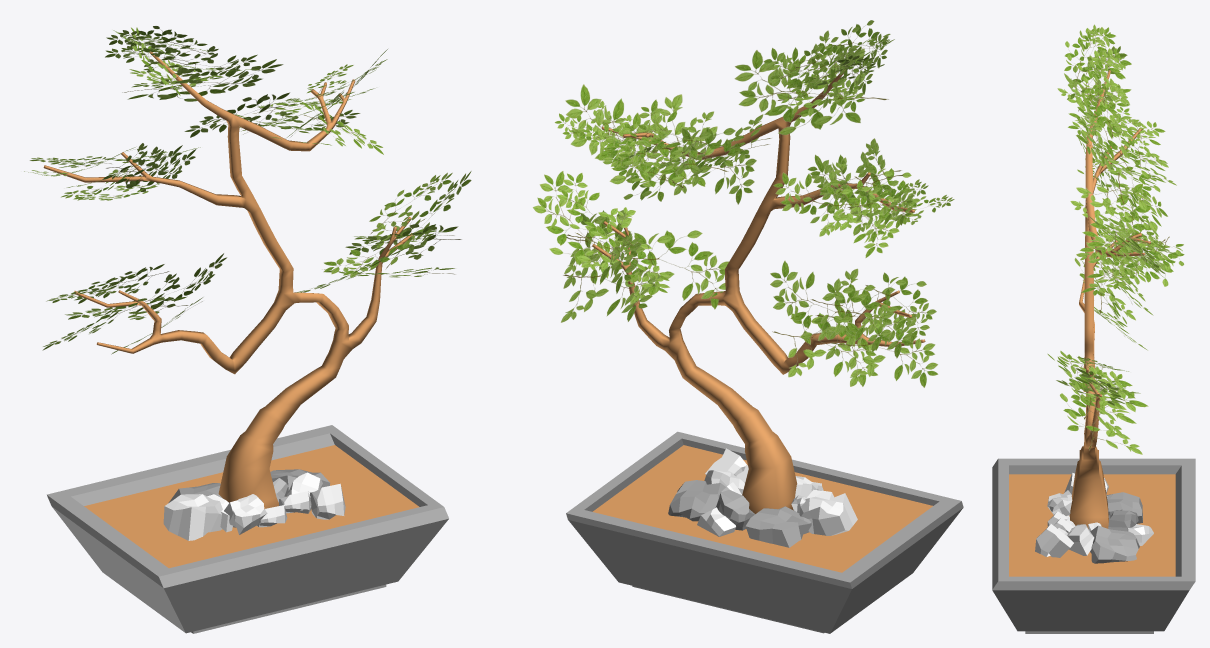
The model's file is bonsai-tree.glb.
3 views of the same model, side by side, from view 1: azimuth 30°, elevation 25°; view 2: azimuth 150°, elevation 25°; view 3: azimuth 270°, elevation 25° (orthographic). The views are drawn at different scales.
Parts seen in each view (by area): view 1: Cube_0, Plane_2, Cube.012_56, object 59, object 7, Cube.007_51, Cube.009_53, object 43, object 6, object 15, object 3, object 10 (+4 smaller); view 2: Cube_0, Plane_2, object 59, object 58, object 34, object 10, object 15, Cube.012_56, object 60, Cube.001_45, object 3, object 57 (+32 smaller); view 3: Cube_0, Plane_2, Cube.005_49, object 57, object 19, object 41, object 59, object 43, Cube.009_53, object 31, object 44, object 42 (+27 smaller).
Boxes of the visible parts, x1,y1,x2,y2 form: Cube_0: (47, 425, 448, 633); Plane_2: (43, 51, 413, 508); Cube.012_56: (163, 494, 222, 540); object 59: (122, 59, 283, 101); object 7: (323, 218, 425, 277); Cube.007_51: (224, 494, 267, 534); Cube.009_53: (310, 483, 345, 519); object 43: (345, 224, 461, 259); object 6: (369, 172, 452, 234); object 15: (184, 92, 296, 137); object 3: (385, 171, 471, 269); object 10: (132, 253, 227, 314); Cube_0: (566, 431, 963, 633); Plane_2: (592, 69, 925, 513); object 59: (734, 48, 888, 134); object 58: (565, 84, 709, 184); object 34: (613, 230, 728, 309); object 10: (770, 260, 873, 339); object 15: (664, 127, 756, 204); Cube.012_56: (799, 489, 857, 535); object 60: (830, 317, 938, 387); Cube.001_45: (745, 506, 811, 547); object 3: (532, 171, 631, 278); object 57: (561, 246, 659, 322); Cube_0: (992, 458, 1195, 633); Plane_2: (1069, 70, 1150, 528); Cube.005_49: (1090, 525, 1139, 563); object 57: (1059, 386, 1148, 454); object 19: (1076, 171, 1157, 255); object 41: (1076, 231, 1146, 295); object 59: (1064, 73, 1127, 169); object 43: (1070, 365, 1135, 436); Cube.009_53: (1035, 524, 1073, 557); object 31: (1057, 83, 1115, 136); object 44: (1066, 366, 1132, 421); object 42: (1107, 221, 1177, 286).
Bounding box in the file's own units: 0.9401 × 1.19 × 0.4222.
4 materials, 1 textured.
